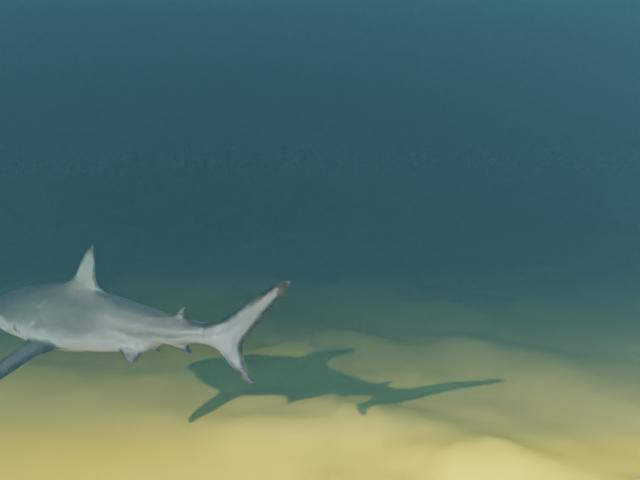Carribean Shark.001: (0, 245, 290, 384)
